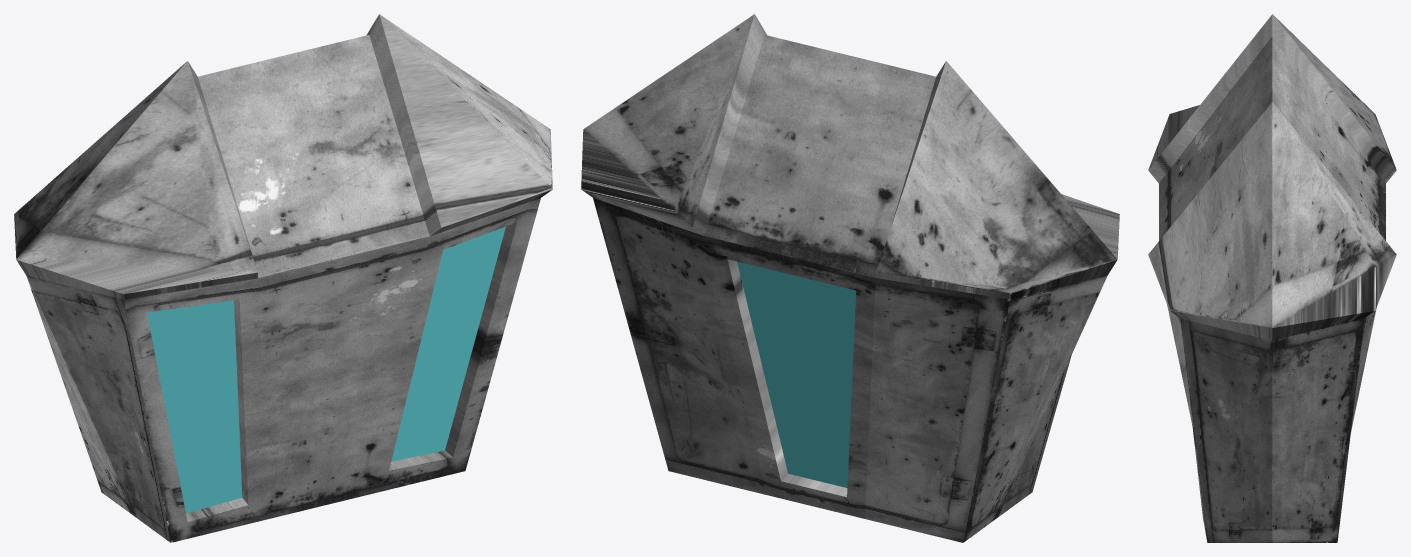
File: artifact.fbx
3 renders of one model, left to right at view 1: azimuth 30°, elevation 25°; view 2: azimuth 150°, elevation 25°; view 3: azimuth 270°, elevation 25°, orthographic. The views are drawn at different scales.
Parts seen in each view (by area): view 1: Cube_1; view 2: Cube_1; view 3: Cube_1.
Part boxes in pixels (box(x1,y1,x2,y2)): Cube_1: box(14, 14, 552, 542); Cube_1: box(581, 14, 1119, 542); Cube_1: box(1148, 14, 1396, 542).
Bounding box in the file's own units: 187 × 149 × 80.3.
1 material, 1 textured.
